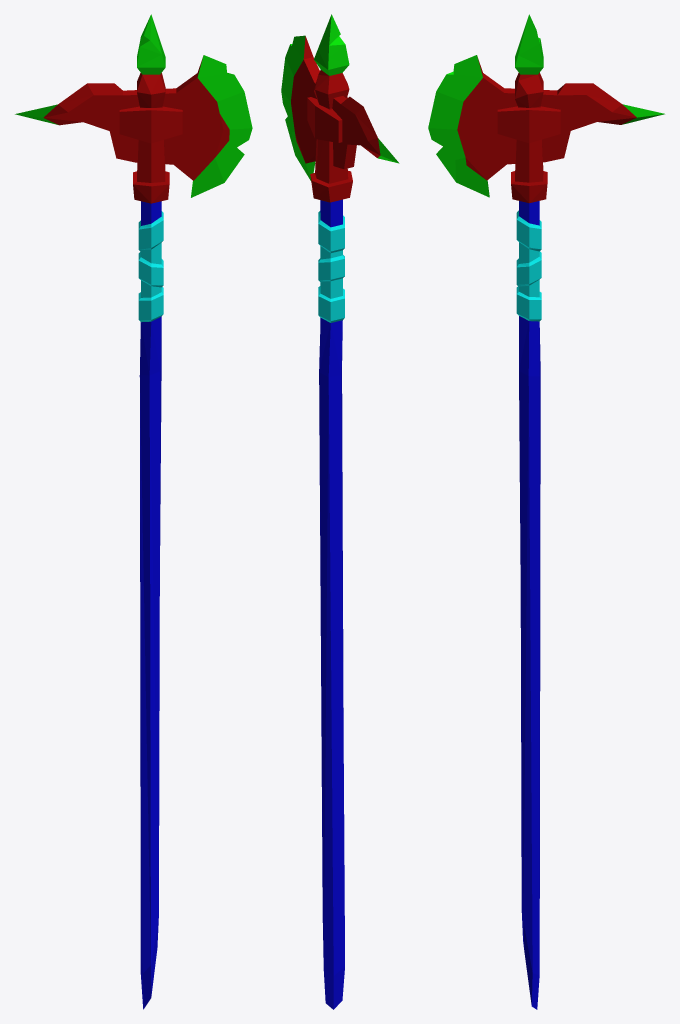
Rendered from Spear_Rare_Halberd.fbx.
The picture shows the model from 3 angles, left to right: view 1: azimuth 90°, elevation 25°; view 2: azimuth 210°, elevation 25°; view 3: azimuth 270°, elevation 25°; orthographic projection.
Visible parts, largest first — view 1: SM_Wep_Halberd_06; view 2: SM_Wep_Halberd_06; view 3: SM_Wep_Halberd_06.
Boxes of the visible parts, x1,y1,x2,y2 form: SM_Wep_Halberd_06: (15,14,252,1009); SM_Wep_Halberd_06: (281,14,399,1009); SM_Wep_Halberd_06: (428,14,664,1009).
Bounding box in the file's own units: 0.0977 × 2.38 × 0.5163.
